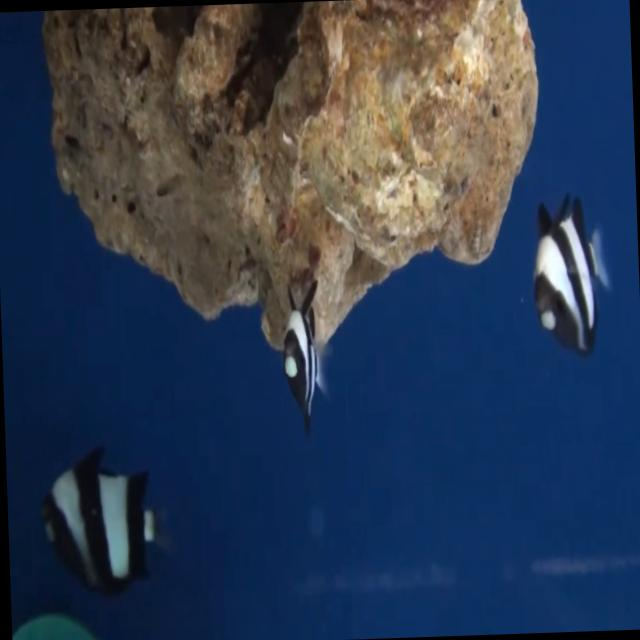ThreeStripedDamselfish: (42, 451, 164, 591), (42, 447, 146, 588), (532, 190, 607, 356), (281, 307, 313, 424)
